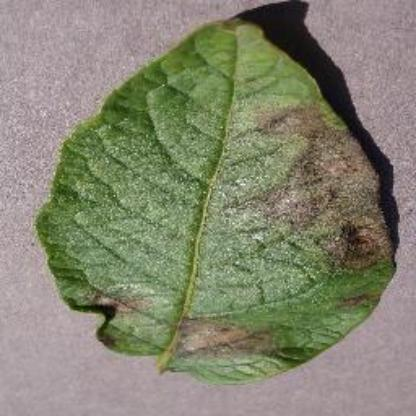Late-Blight: (39, 10, 399, 382)
